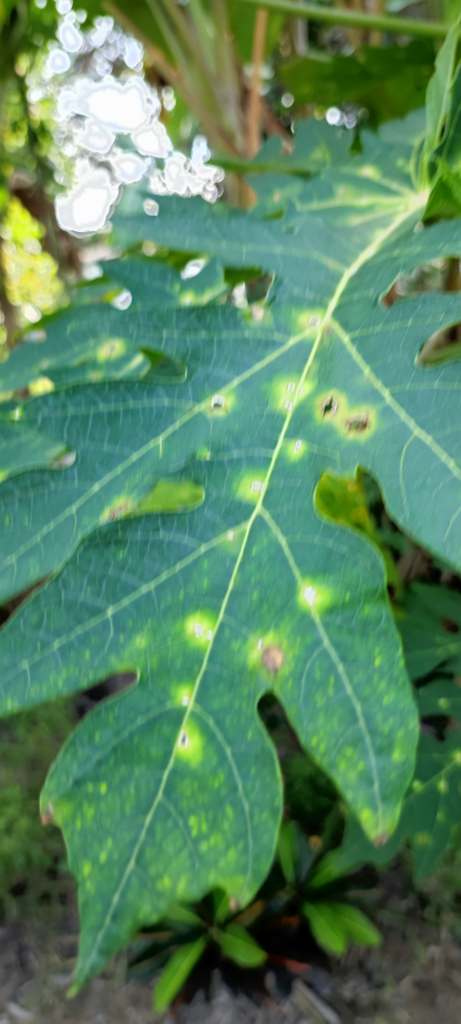Alternaria brassicicola: (184, 295, 385, 484), (140, 586, 306, 778), (335, 152, 443, 250)
